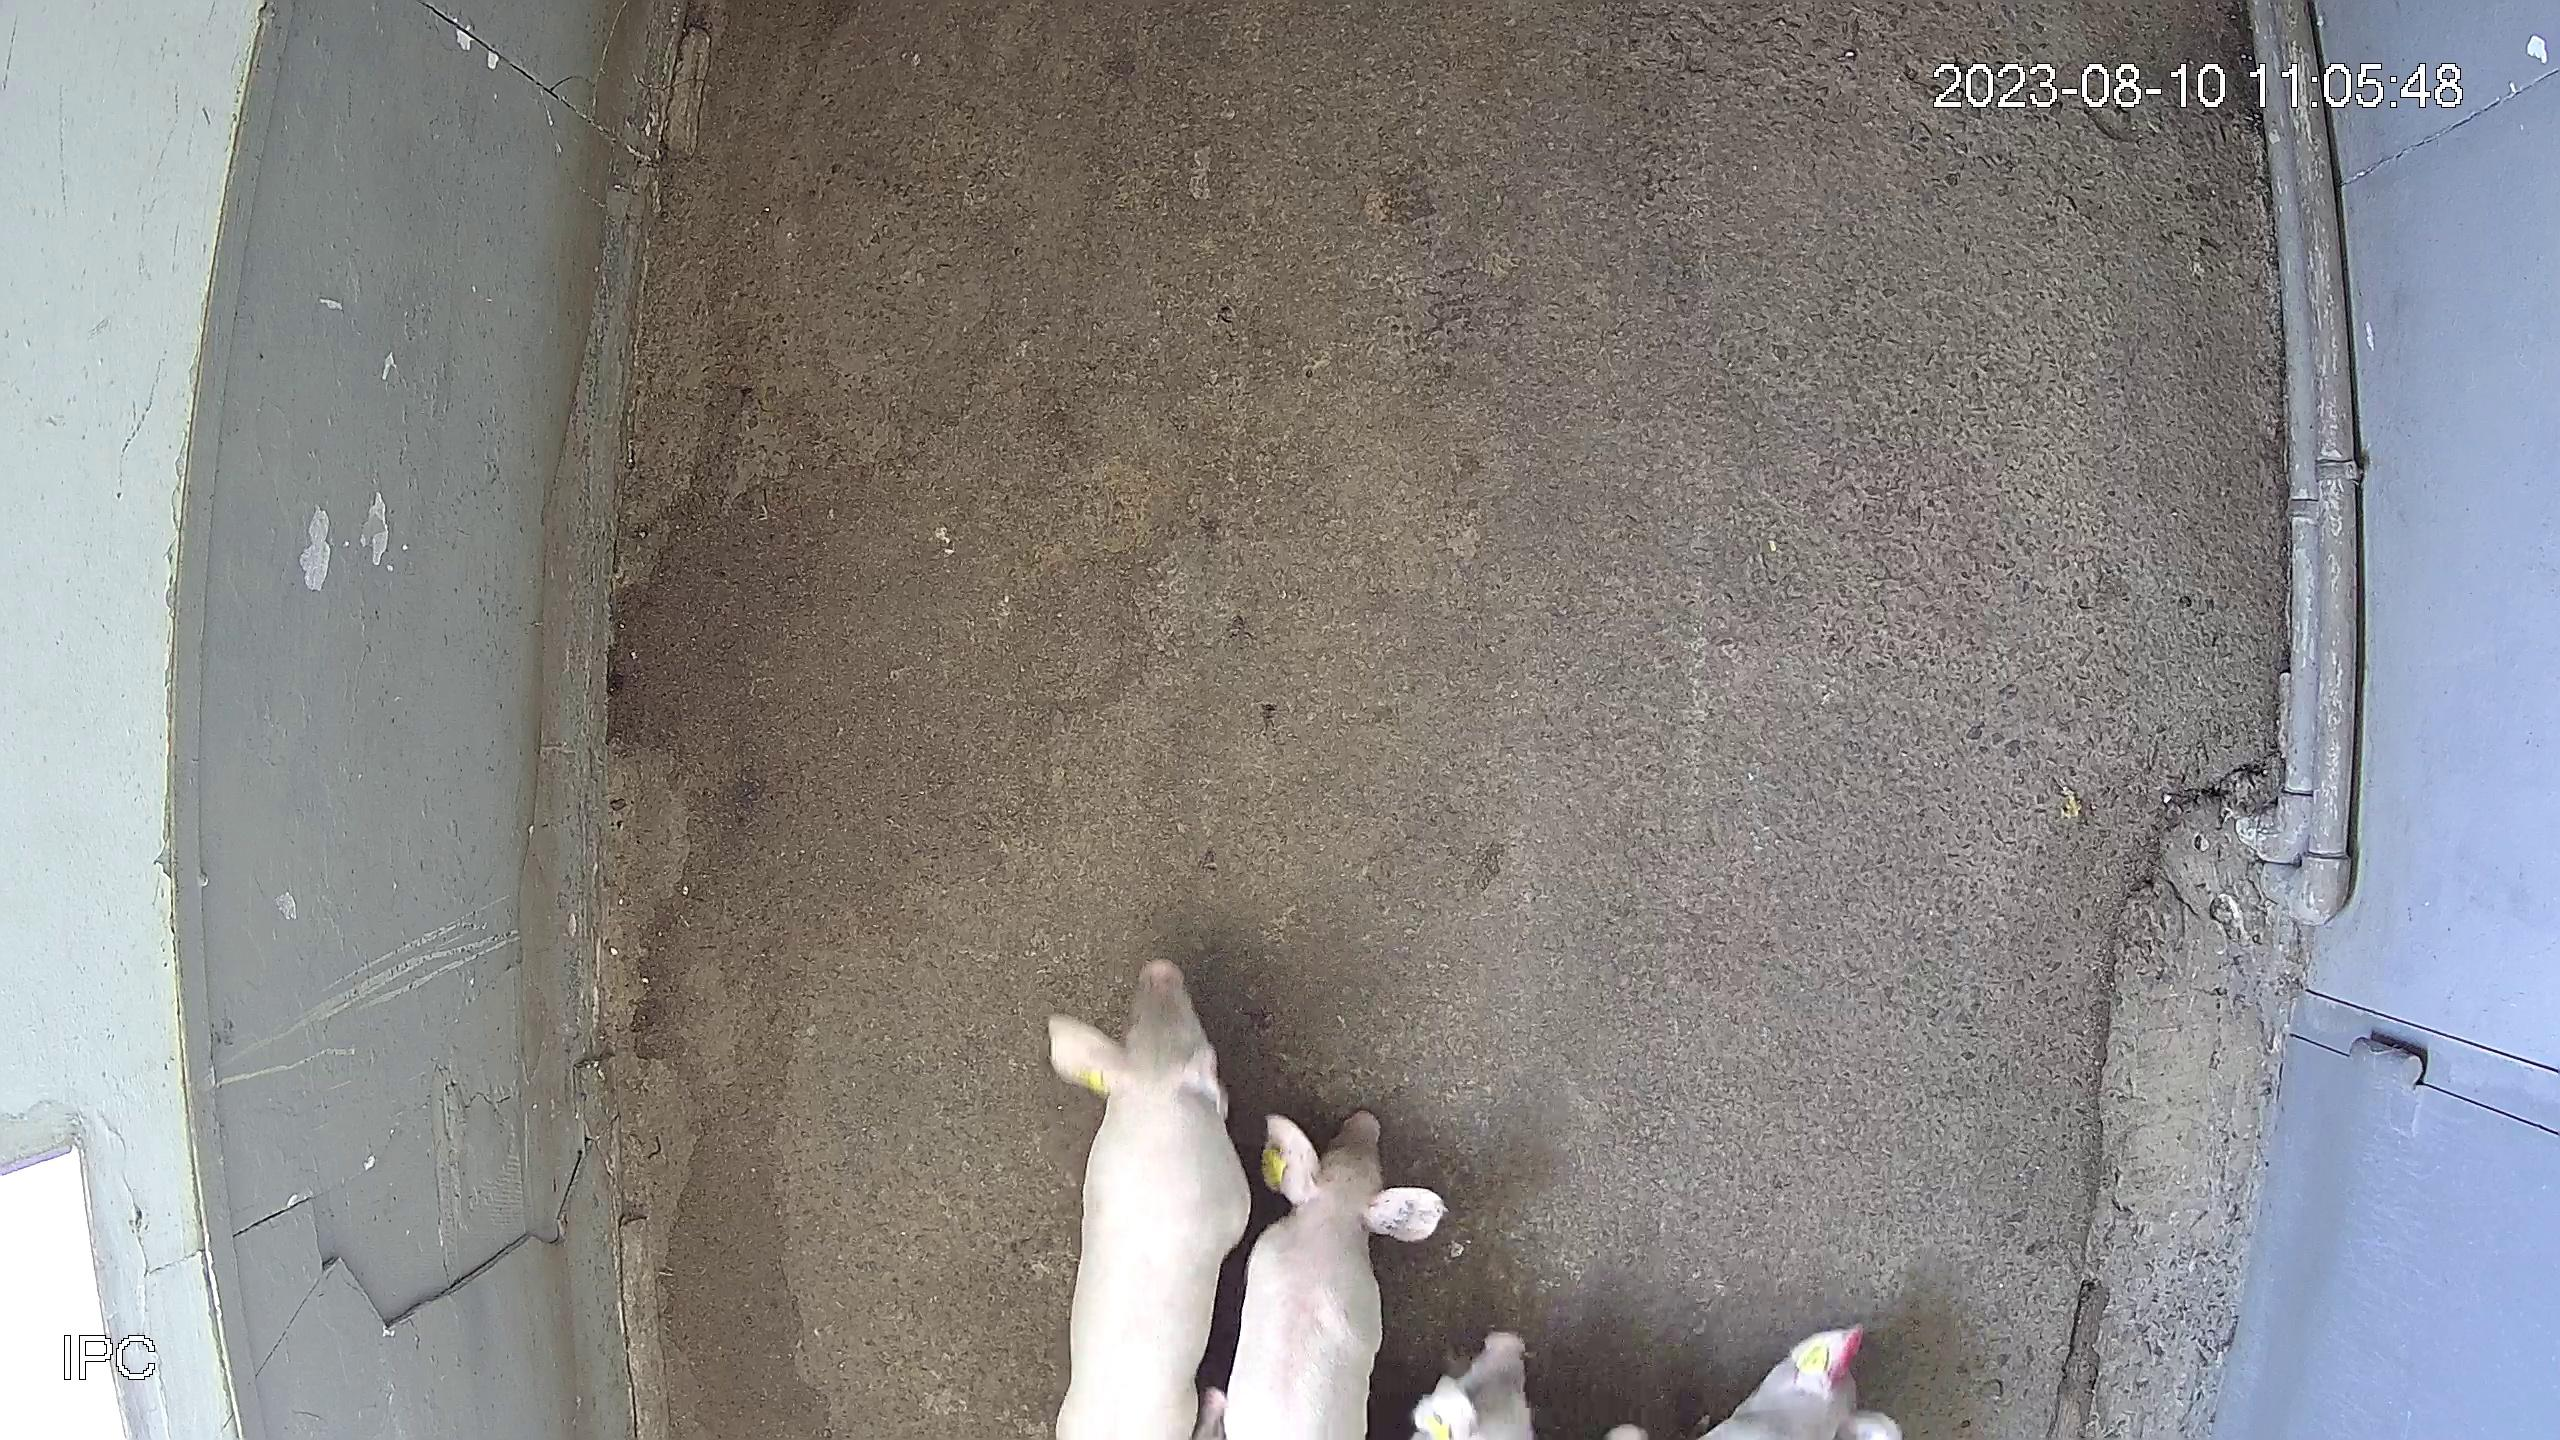Pig: (1046, 960, 1250, 1440), (1224, 1111, 1445, 1440), (1705, 1326, 1904, 1440), (1414, 1333, 1535, 1440)
